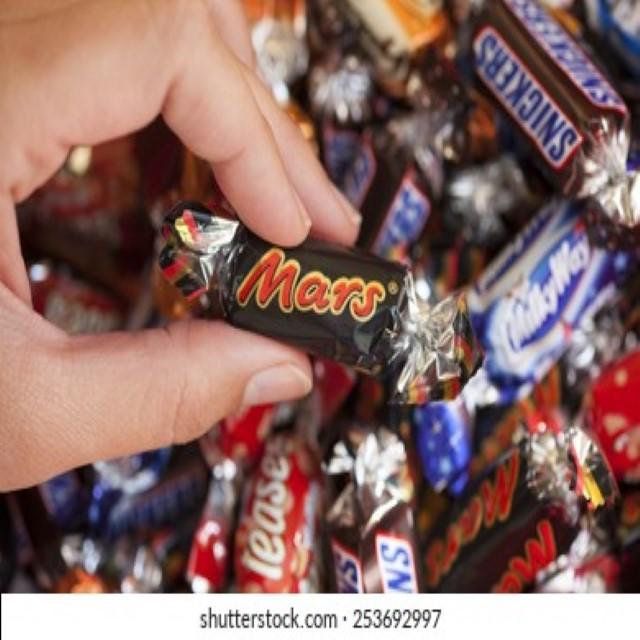mars_chocolate: (177, 210, 420, 365)
snickers_chocolate: (463, 18, 637, 200)
